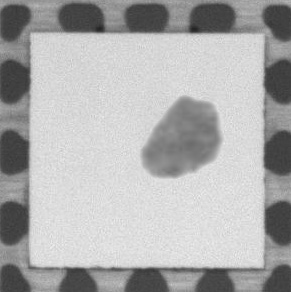DIE_INK: (134, 93, 221, 177)
